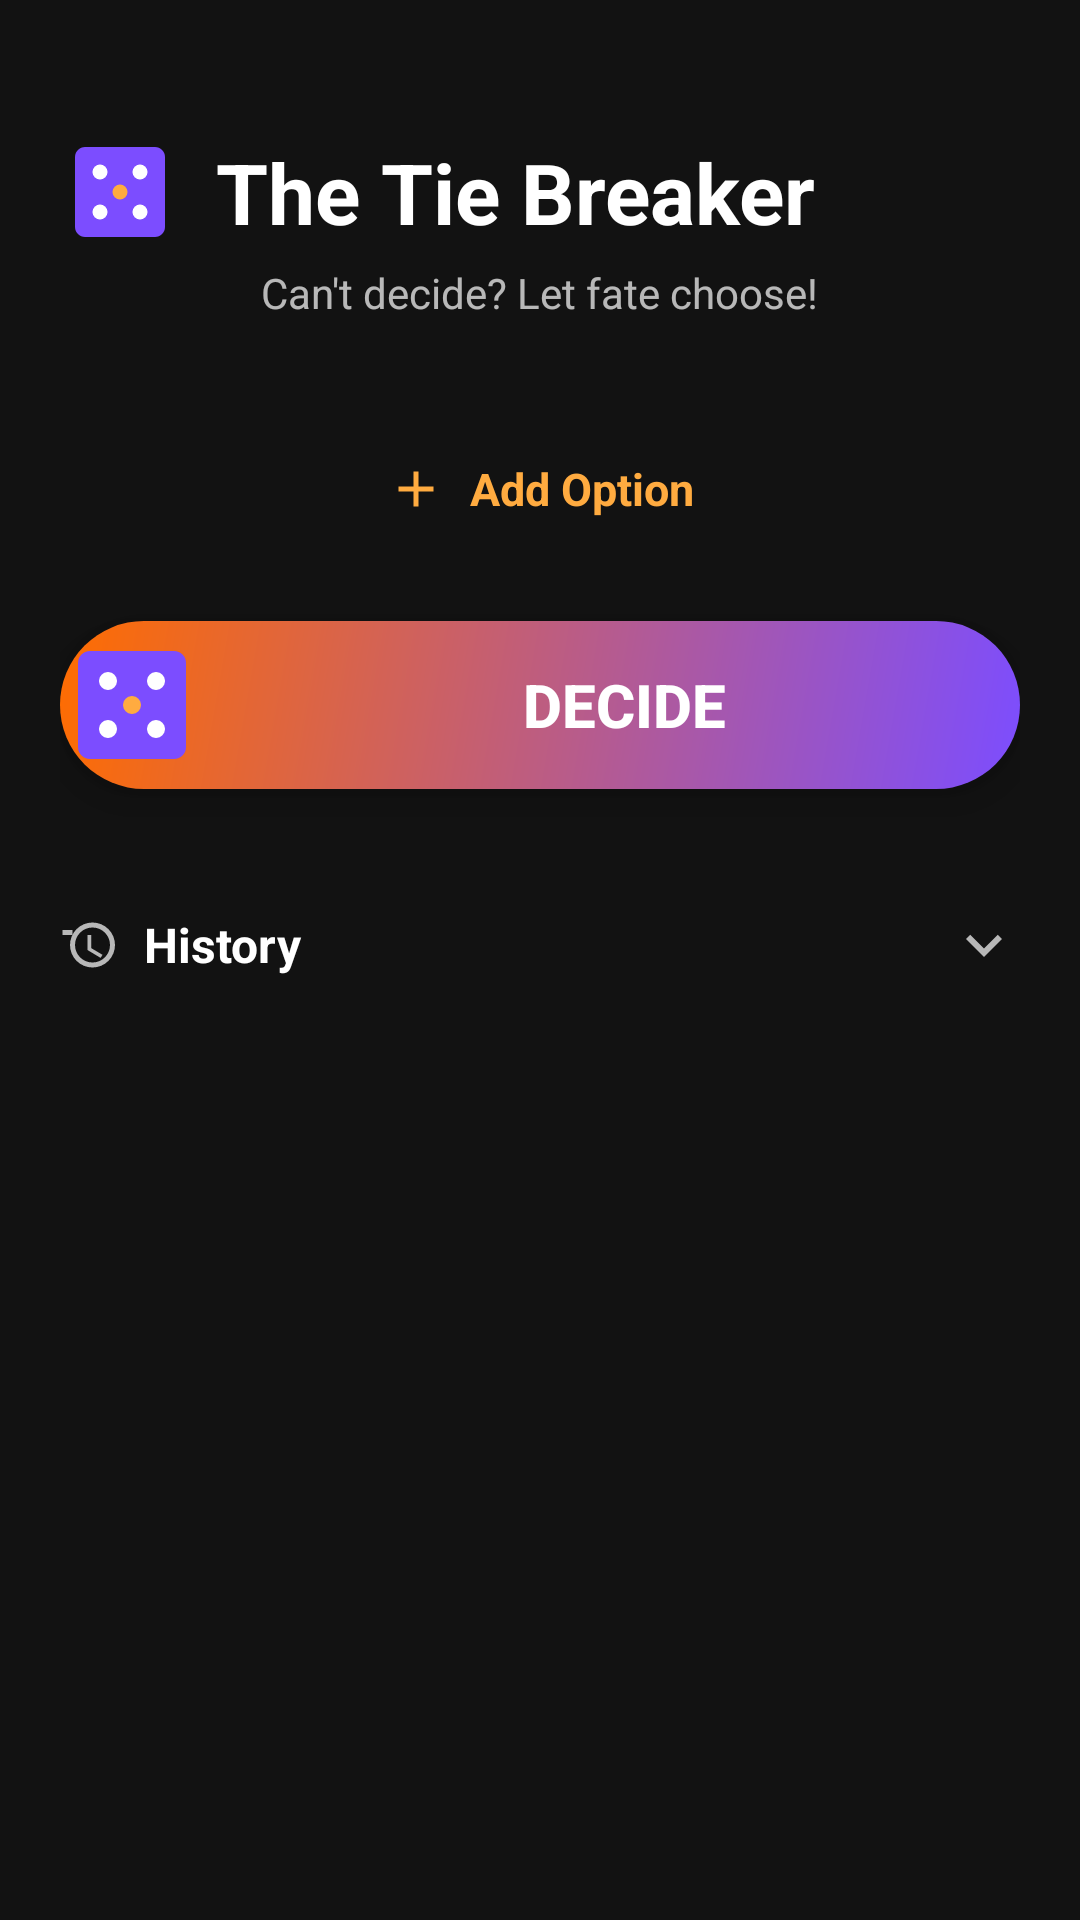

Where icons sit on this 1080px x 1920px app screen, as (x1, y1, x2, y2):
App icon: (75, 147, 165, 237)
Expand/collapse: (966, 935, 1002, 957)
